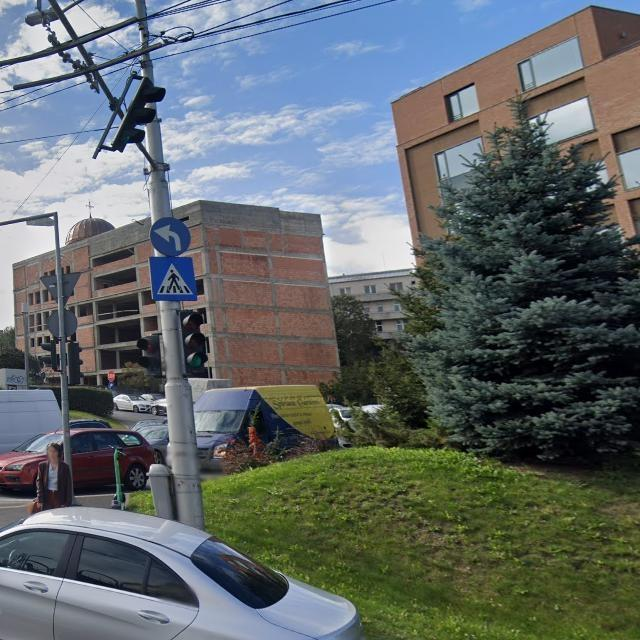info_crosswalk: (149, 256, 197, 302)
